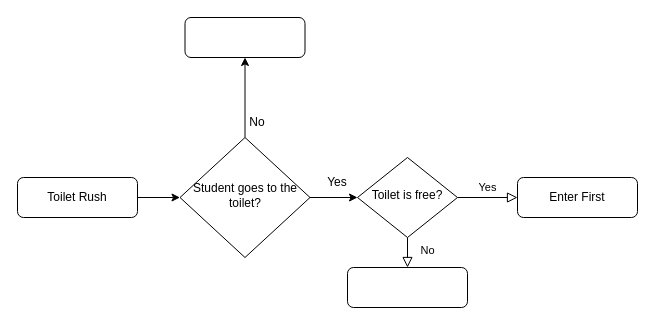
The diagram is 655 pixels wide and 325 high, and some of its shapes have lost their labels. Each missing label, with the box of its shape:
Stay to resume previews activities: (184, 16, 305, 58)
Wait in the line: (346, 266, 468, 308)
